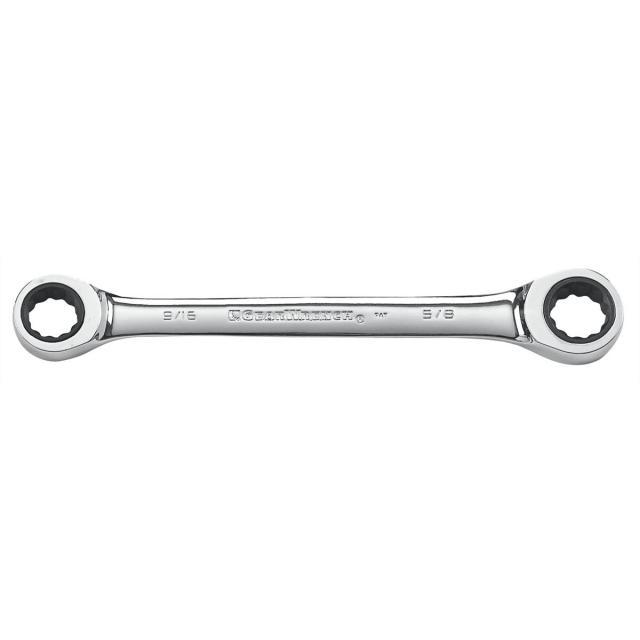wrench: (9, 257, 628, 372)
